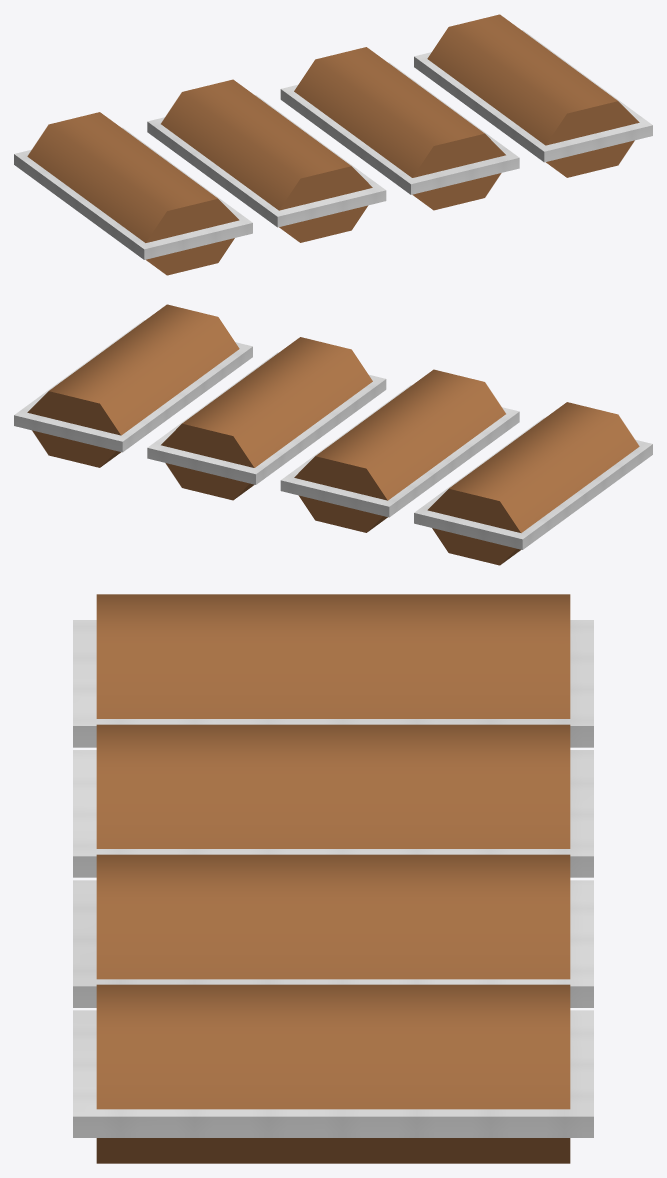
The model's file is meal_pemmican.obj.
3 views of the same model, one above another, from view 1: azimuth 30°, elevation 25°; view 2: azimuth 150°, elevation 25°; view 3: azimuth 270°, elevation 25° (orthographic). The views are drawn at different scales.
Visible parts, largest first — view 1: portion_4, portion_3, portion_1, portion_2, tie_3, tie_2, tie_4, tie_1; view 2: portion_4, portion_3, portion_1, portion_2, tie_3, tie_2, tie_4, tie_1; view 3: portion_4, portion_3, portion_1, portion_2, tie_4, tie_1, tie_2, tie_3.
Part boxes in pixels (x1,y1,x2,y2): portion_4: [427, 14, 639, 177]; portion_3: [294, 47, 505, 210]; portion_1: [27, 112, 239, 275]; portion_2: [161, 79, 372, 242]; tie_3: [280, 62, 519, 194]; tie_2: [147, 95, 386, 227]; tie_4: [414, 30, 652, 162]; tie_1: [14, 127, 252, 259]; portion_4: [27, 304, 239, 467]; portion_3: [161, 337, 372, 500]; portion_1: [427, 402, 639, 565]; portion_2: [294, 369, 505, 532]; tie_3: [147, 352, 386, 484]; tie_2: [280, 385, 519, 517]; tie_4: [14, 320, 252, 452]; tie_1: [414, 417, 652, 549]; portion_4: [96, 984, 570, 1163]; portion_3: [96, 854, 570, 979]; portion_1: [96, 594, 570, 718]; portion_2: [96, 724, 570, 848]; tie_4: [73, 1010, 593, 1137]; tie_1: [73, 620, 593, 747]; tie_2: [73, 750, 593, 877]; tie_3: [73, 880, 593, 1007].
Bounding box in the file's own units: 0.496 × 0.06 × 0.22.
